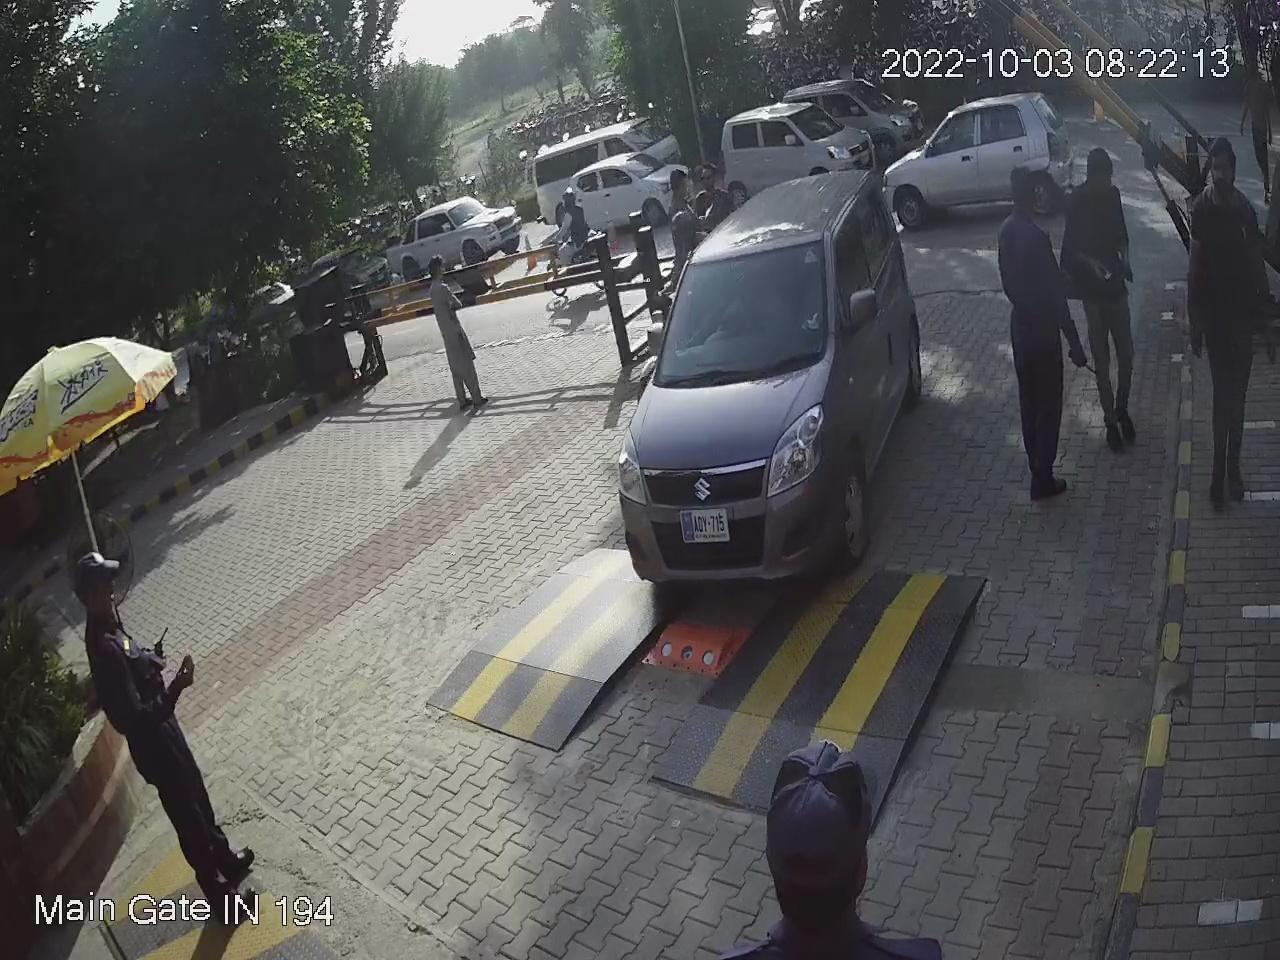windshield: (650, 230, 841, 390)
